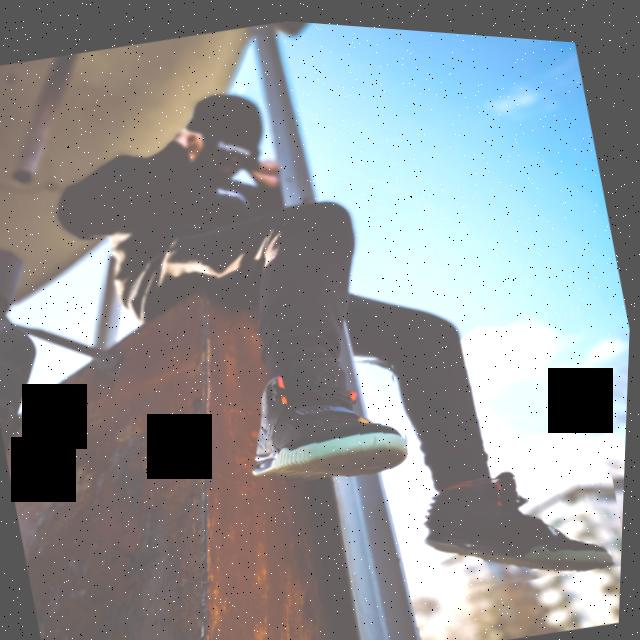shoe: (222, 334, 423, 524), (409, 436, 628, 599)
